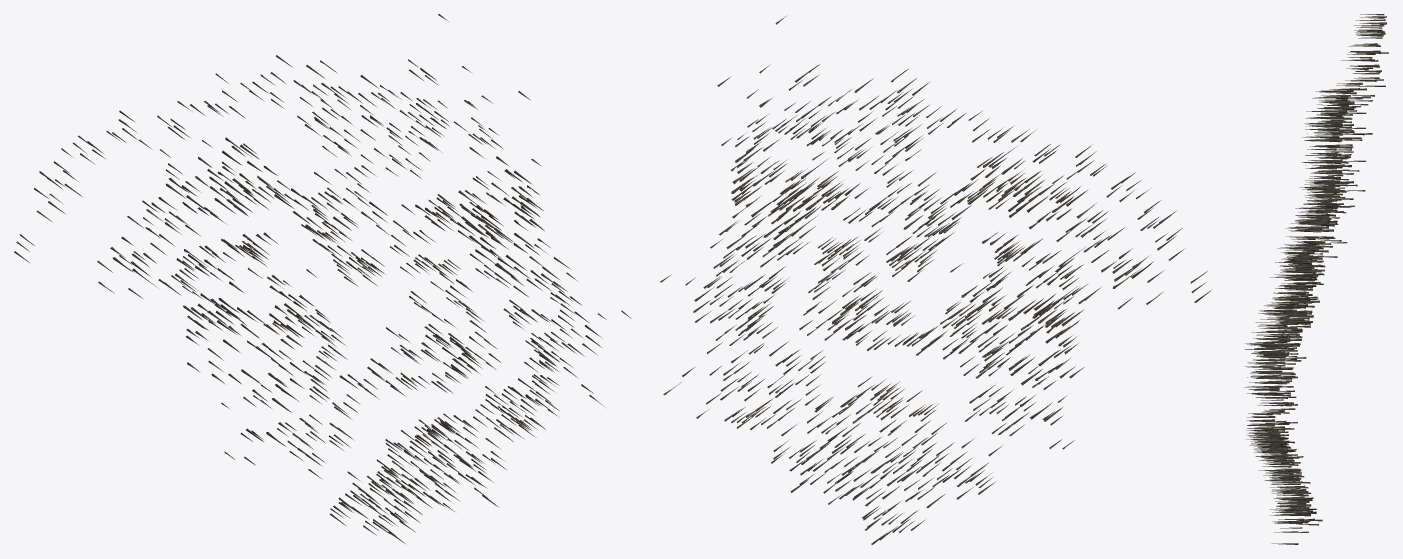
File: stablo_hrast.glb
3 views of the same model, side by side, from view 1: azimuth 30°, elevation 25°; view 2: azimuth 150°, elevation 25°; view 3: azimuth 270°, elevation 25° (orthographic). The views are drawn at different scales.
Visible parts, largest first — view 1: Background_Tree_Atlas.006_Trunk_Oak_0; view 2: Background_Tree_Atlas.006_Trunk_Oak_0; view 3: Background_Tree_Atlas.006_Trunk_Oak_0.
Part boxes in pixels (x1,y1,x2,y2): Background_Tree_Atlas.006_Trunk_Oak_0: [14, 14, 631, 544]; Background_Tree_Atlas.006_Trunk_Oak_0: [660, 16, 1212, 544]; Background_Tree_Atlas.006_Trunk_Oak_0: [1244, 14, 1388, 544].
Bounding box in the file's own units: 354 × 295 × 90.36.
1 material, 1 textured.
